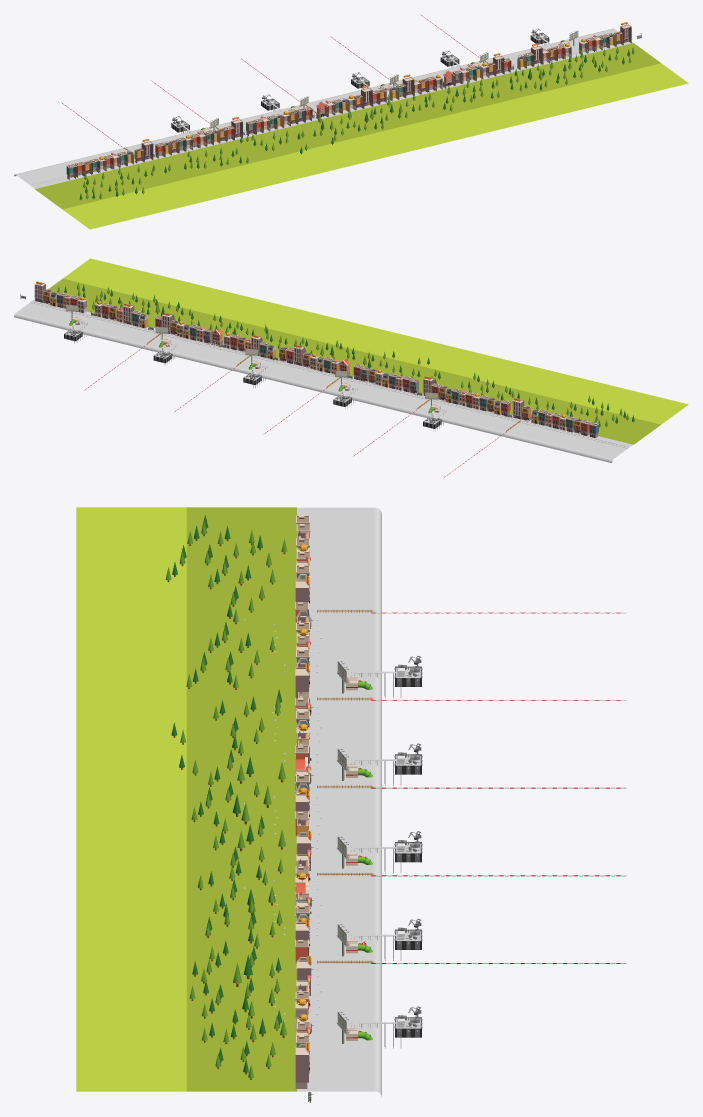
File: Maps1.fbx
3 renders of one model, top to bottom at view 1: azimuth 30°, elevation 25°; view 2: azimuth 150°, elevation 25°; view 3: azimuth 270°, elevation 25°, orthographic. The views are drawn at different scales.
Parts seen in each view (by area): view 1: Grass, Building; view 2: Grass, Building; view 3: Grass, Building.
Part boxes in pixels (left/top/right/bottom): Grass: left=35, top=43, right=688, bottom=229; Building: left=14, top=22, right=641, bottom=199; Grass: left=48, top=258, right=688, bottom=444; Building: left=14, top=281, right=634, bottom=462; Grass: left=76, top=507, right=296, bottom=1091; Building: left=165, top=507, right=381, bottom=1102.
Size of the model in its own units: 20379 by 967 by 7960.
Materials: 6 (3 with a texture image).
